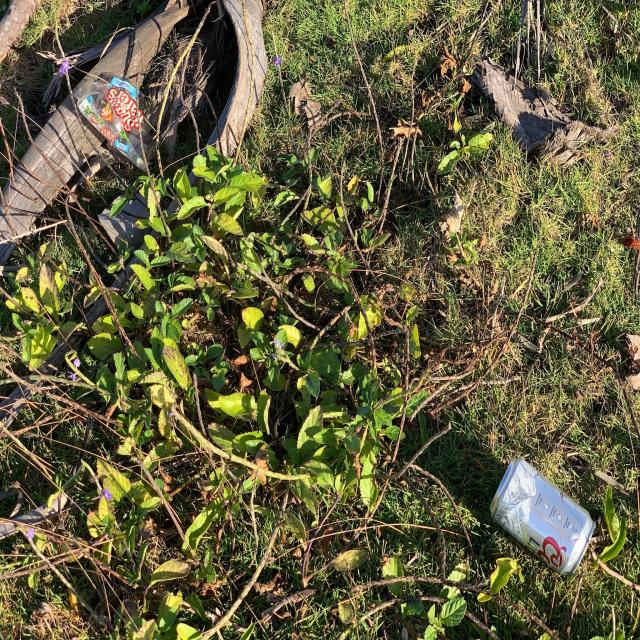litter: (489, 458, 597, 578), (73, 75, 152, 172)
